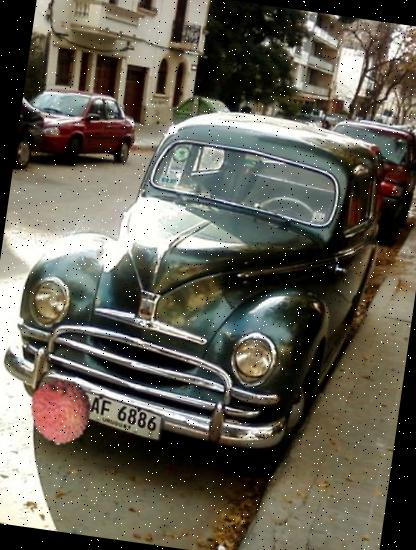Lychee: (23, 374, 99, 450)
